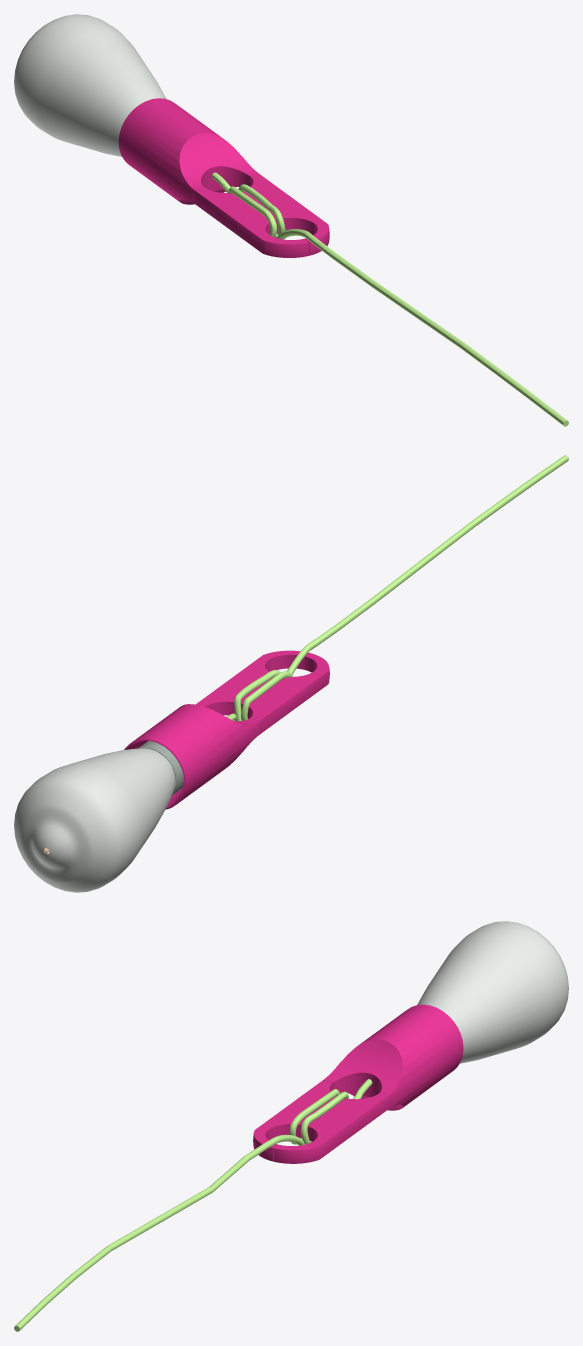
3 renders of one model, top to bottom at view 1: azimuth 30°, elevation 25°; view 2: azimuth 150°, elevation 25°; view 3: azimuth 330°, elevation 25°, orthographic.
Parts seen in each view (by area): view 1: split_parent_3, Object_3, split_parent_2; view 2: split_parent_3, Object_3, split_parent_2, split_parent_5; view 3: split_parent_3, Object_3, split_parent_2.
Part boxes in pixels (x1,y1,x2,y2): split_parent_3: (14, 14, 166, 156); Object_3: (118, 98, 329, 257); split_parent_2: (212, 172, 568, 426); split_parent_3: (14, 748, 175, 892); Object_3: (124, 650, 329, 809); split_parent_2: (226, 455, 568, 721); split_parent_5: (138, 741, 184, 795); split_parent_3: (417, 921, 568, 1063); Object_3: (253, 1004, 463, 1163); split_parent_2: (14, 1079, 372, 1331).
Size of the model in its own units: 0.1212 by 0.1212 by 1.
